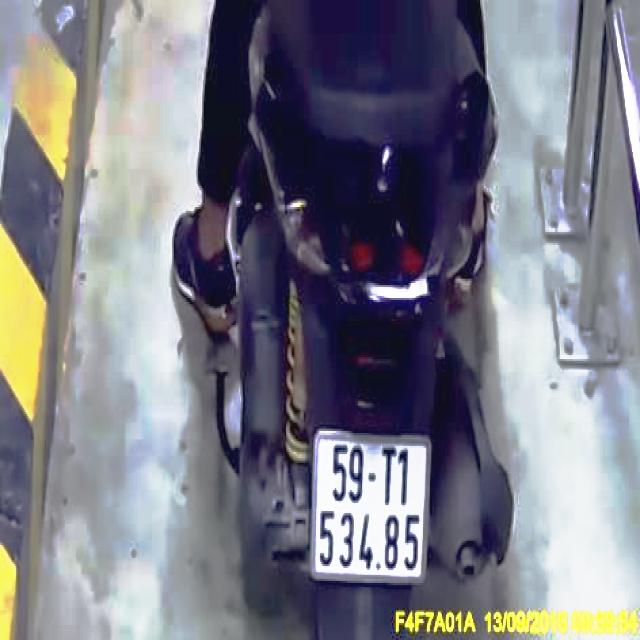license_plate: (310, 435, 431, 584)
